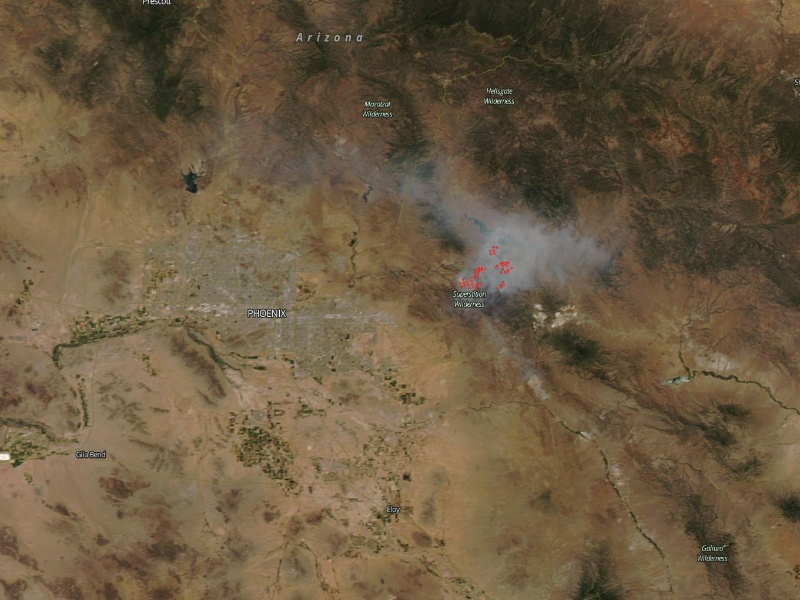smoke: (444, 202, 606, 284)
